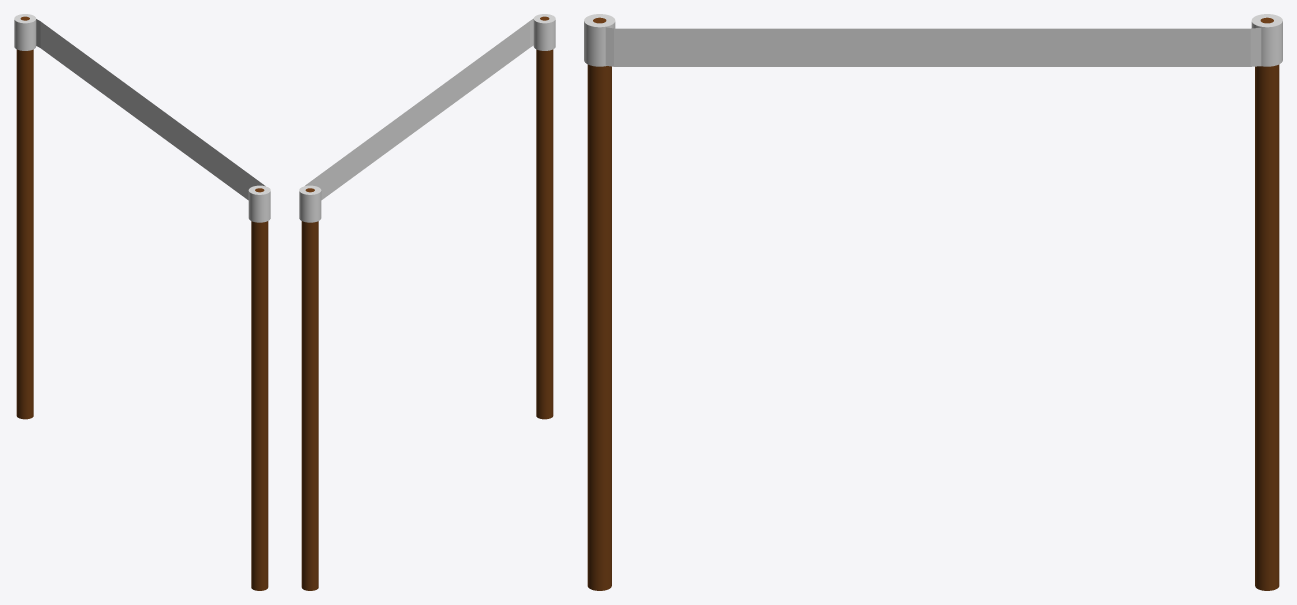
Rendered from finish_banner.fbx.
3 renders of one model, left to right at view 1: azimuth 30°, elevation 25°; view 2: azimuth 150°, elevation 25°; view 3: azimuth 270°, elevation 25°, orthographic. The views are drawn at different scales.
Visible parts, largest first — view 1: Pole_2, Pole_1, Banner, TP_1, TP_2; view 2: Pole_1, Pole_2, Banner, TP_2, TP_1; view 3: Banner, Pole_1, Pole_2, TP_1, TP_2.
Boxes of the visible parts, x1,y1,x2,y2 form: Pole_2: (16,16,33,419); Pole_1: (251,188,268,590); Banner: (36,19,265,200); TP_1: (248,185,270,222); TP_2: (14,14,36,50); Pole_1: (536,16,553,419); Pole_2: (301,188,318,590); Banner: (305,18,533,200); TP_2: (299,185,321,222); TP_1: (533,14,555,50); Banner: (605,27,1261,66); Pole_1: (587,17,611,590); Pole_2: (1255,17,1279,590); TP_1: (584,14,615,66); TP_2: (1251,14,1282,66).
Bounding box in the file's own units: 0.3179 × 6.29 × 7.05.
